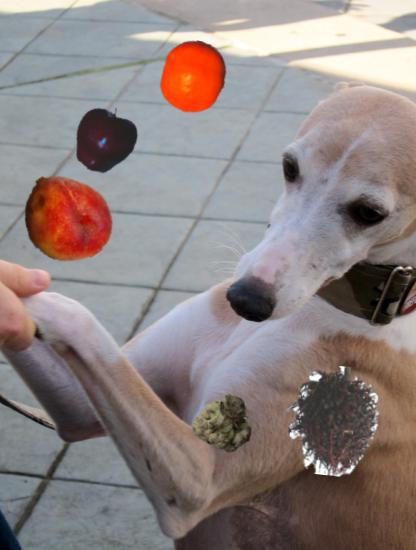Apple: (70, 105, 140, 175)
Cauliflower: (196, 391, 257, 452)
Clementine: (157, 40, 231, 114)
Peach: (18, 170, 114, 266)
Rambutan: (276, 365, 387, 476)
